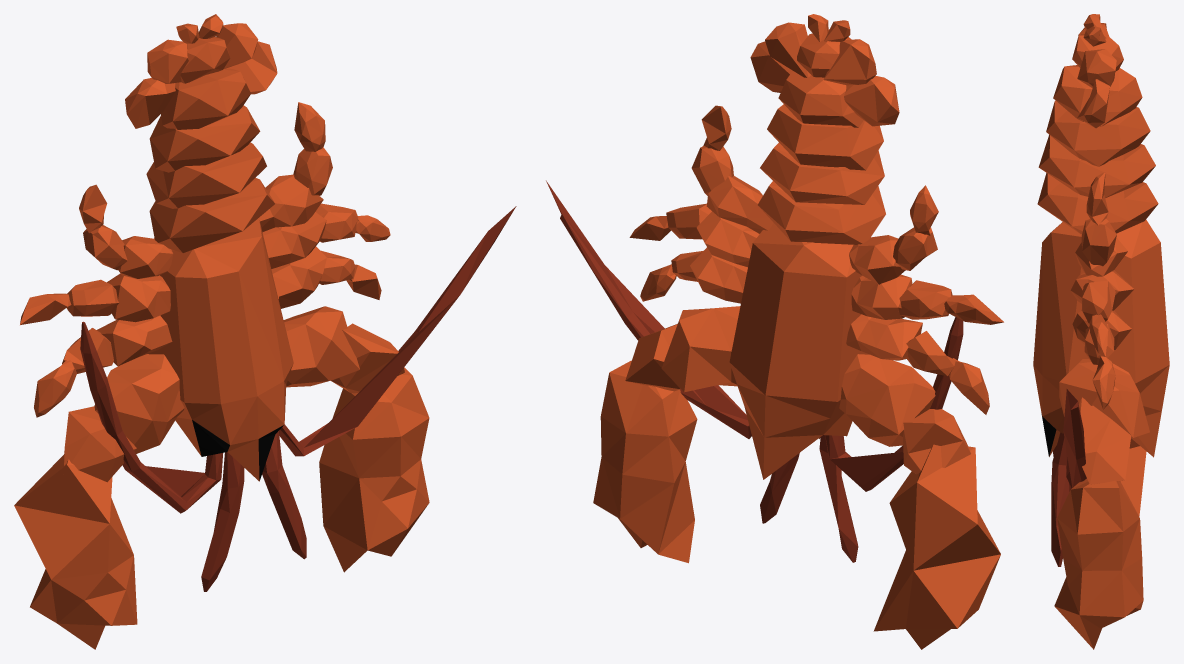
The model's file is Langosta2.fbx.
3 views of the same model, side by side, from view 1: azimuth 30°, elevation 25°; view 2: azimuth 150°, elevation 25°; view 3: azimuth 270°, elevation 25° (orthographic). The views are drawn at different scales.
Parts seen in each view (by area): view 1: Cylinder.021, Cylinder.013, Cylinder.014, Cylinder.035, bIGOTON4.001, bIGOTON4.003, BIGOTON1.001, BIGOTON2.002; view 2: Cylinder.021, Cylinder.013, Cylinder.014, Cylinder.035, bIGOTON4.001, bIGOTON4.003, BIGOTON1.001, BIGOTON2.002; view 3: Cylinder.021, Cylinder.014, Cylinder.035, bIGOTON4.001, BIGOTON2.002, Cylinder.013.
Part boxes in pixels (box(x1,y1,x2,y2)): Cylinder.021: box(63, 14, 404, 482); Cylinder.013: box(14, 454, 137, 649); Cylinder.014: box(319, 367, 429, 572); Cylinder.035: box(20, 102, 390, 417); bIGOTON4.001: box(279, 206, 516, 456); bIGOTON4.003: box(80, 321, 223, 513); BIGOTON1.001: box(201, 452, 244, 591); BIGOTON2.002: box(262, 431, 306, 559); Cylinder.021: box(625, 14, 970, 479); Cylinder.013: box(873, 444, 1000, 649); Cylinder.014: box(593, 360, 697, 563); Cylinder.035: box(629, 105, 1003, 414); bIGOTON4.001: box(546, 180, 751, 438); bIGOTON4.003: box(825, 317, 963, 491); BIGOTON1.001: box(819, 435, 858, 562); BIGOTON2.002: box(760, 453, 799, 523); Cylinder.021: box(1033, 14, 1169, 484); Cylinder.014: box(1054, 478, 1143, 649); Cylinder.035: box(1086, 172, 1115, 409); bIGOTON4.001: box(1063, 389, 1086, 488); BIGOTON2.002: box(1051, 432, 1069, 566); Cylinder.013: box(1120, 438, 1146, 516).
Size of the model in its own units: 424 by 515 by 112.
4 materials, 1 textured.
